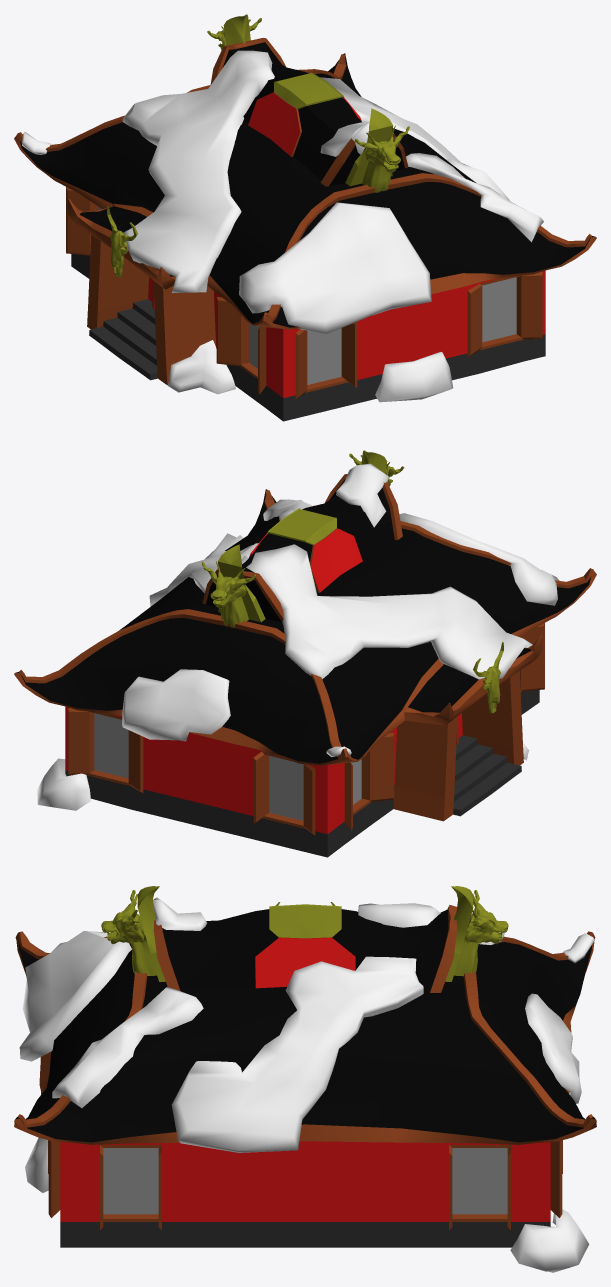
Rendered from kaserne mit schnee.FBX.
The picture shows the model from 3 angles, top to bottom: view 1: azimuth 30°, elevation 25°; view 2: azimuth 150°, elevation 25°; view 3: azimuth 270°, elevation 25°; orthographic projection. The views are drawn at different scales.
Visible parts, largest first — view 1: kaserne; view 2: kaserne; view 3: kaserne.
Part boxes in pixels (bbox=[...]): kaserne: bbox=[14, 14, 596, 421]; kaserne: bbox=[14, 450, 596, 857]; kaserne: bbox=[14, 886, 596, 1272].
Bounding box in the file's own units: 72.78 × 51.25 × 88.24.
